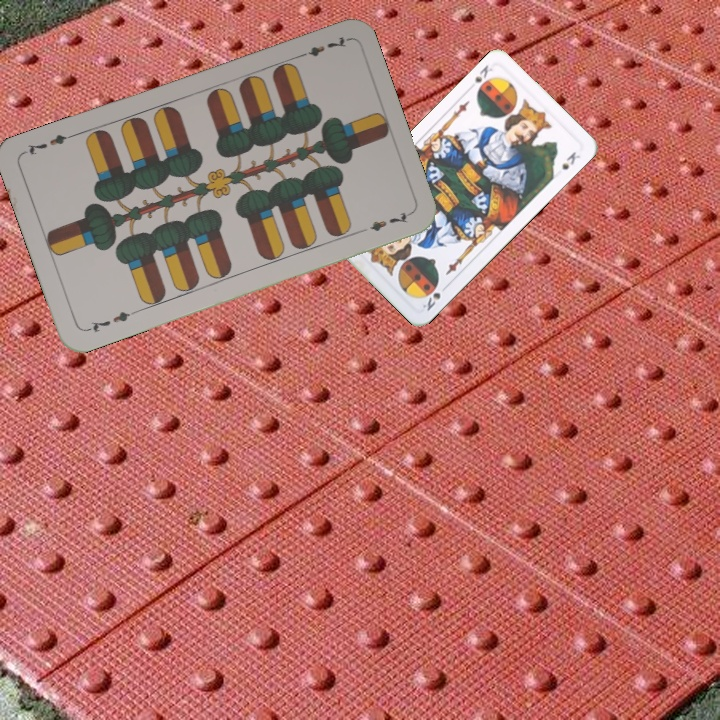E7: (82, 306, 139, 335), (293, 32, 349, 61)
SK: (418, 281, 451, 314), (471, 61, 495, 85)
